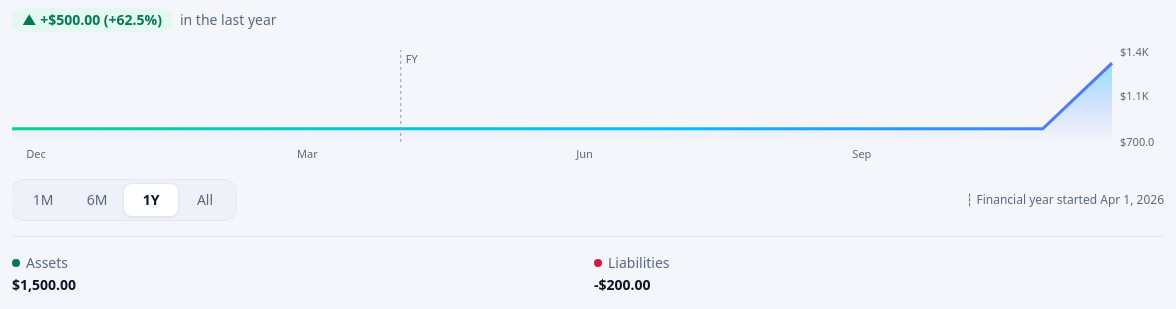
Test: NetWorthTrend › switches range; All has no financial-year line
Click the radio button labelled "All": {"x": 205, "y": 200} [178, 184, 232, 216]
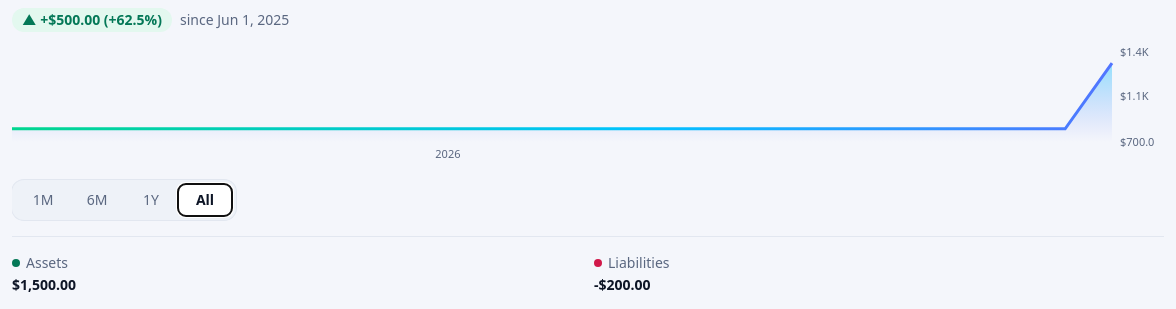
Check: the text "Financial year started" is gone
Click the radio button labelled "1M": {"x": 43, "y": 200} [16, 184, 70, 216]
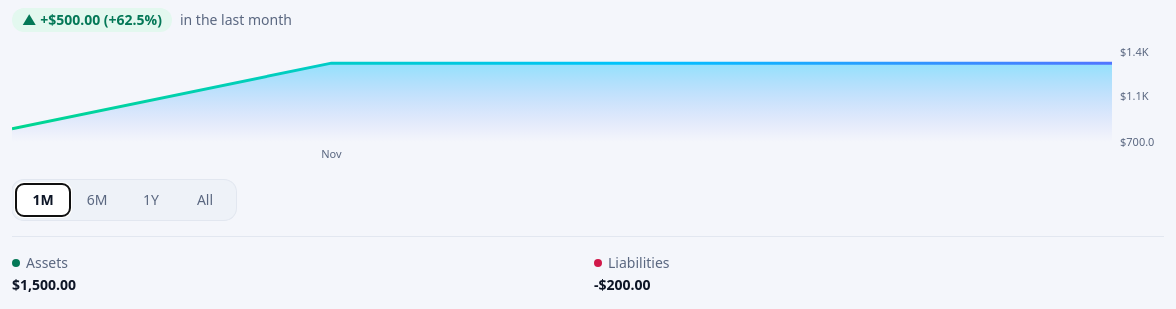
Check: the text "in the last month" is shown, box [180, 10, 292, 30]
